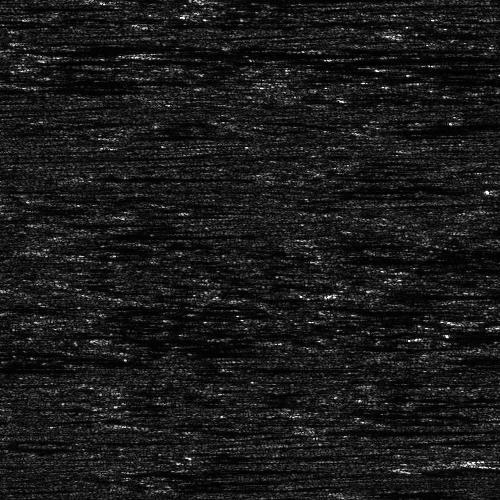object: (240, 284, 449, 301), (438, 314, 500, 325), (102, 48, 185, 55), (106, 334, 117, 341), (0, 77, 8, 84)
shadow: (345, 284, 500, 301), (144, 48, 464, 55), (2, 77, 201, 84), (112, 334, 300, 341), (0, 365, 125, 368), (470, 314, 500, 325)
